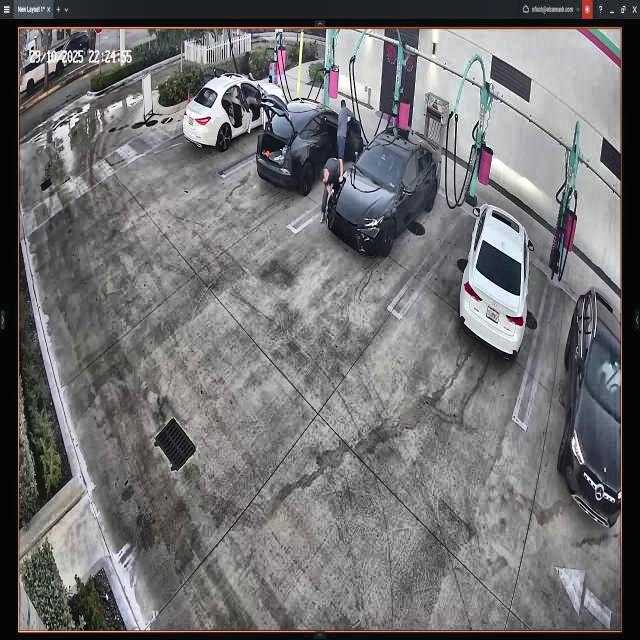Car: (324, 126, 441, 258), (454, 204, 528, 363), (256, 95, 362, 198), (180, 77, 286, 148)
